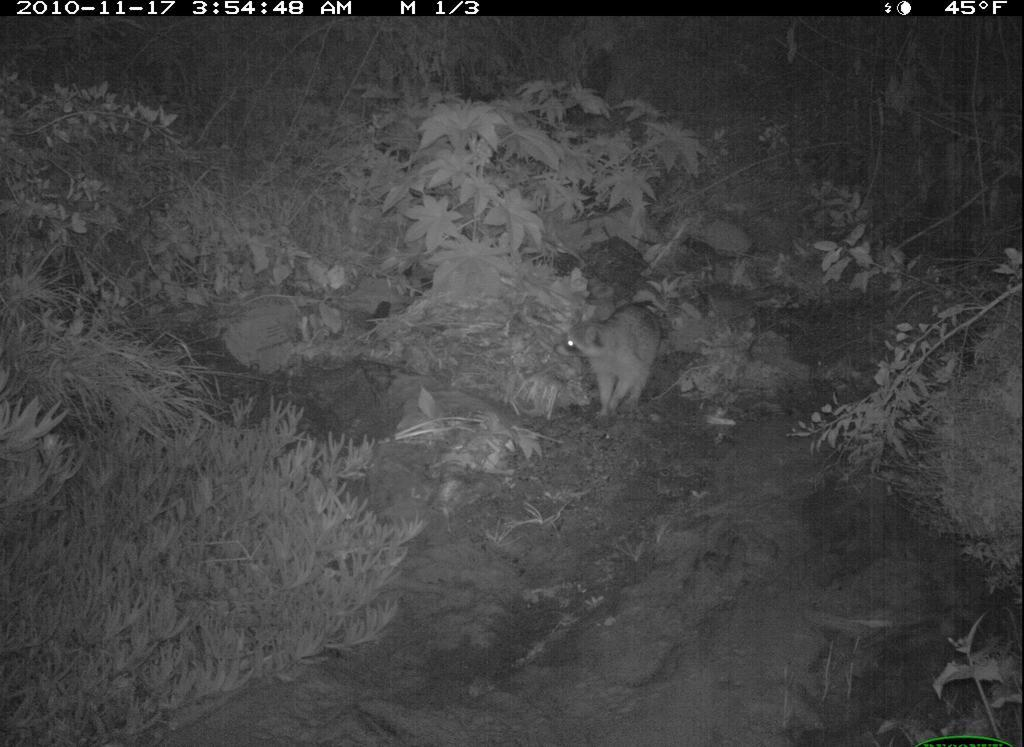raccoon: (552, 296, 675, 423)
